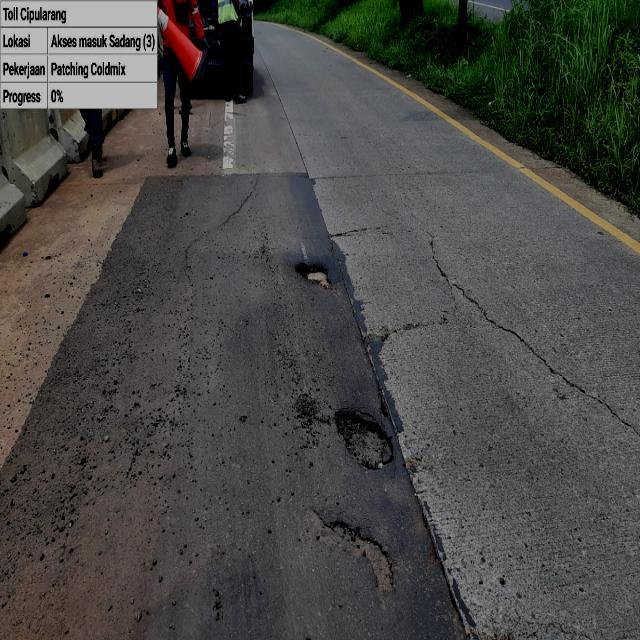Buraco: (297, 504, 401, 596), (330, 405, 399, 474), (292, 260, 339, 292)
